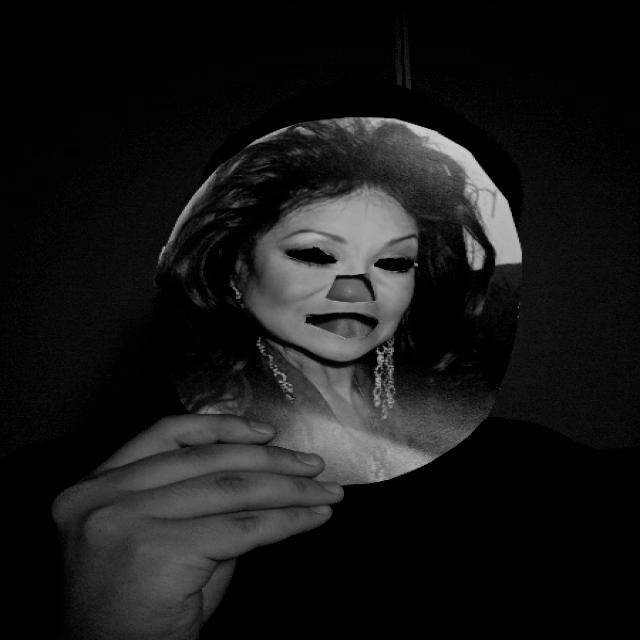real: (142, 115, 528, 483)
